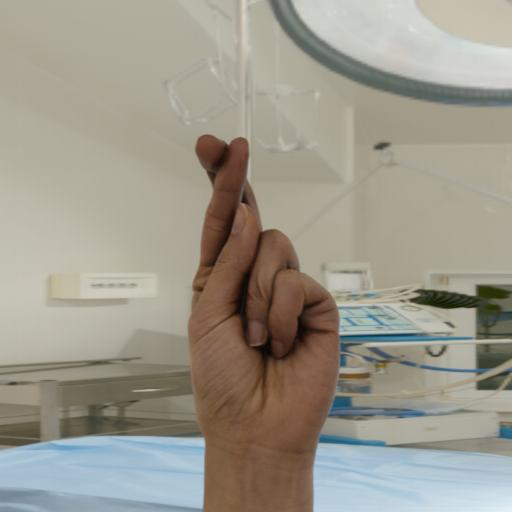R: (146, 107, 430, 512)
